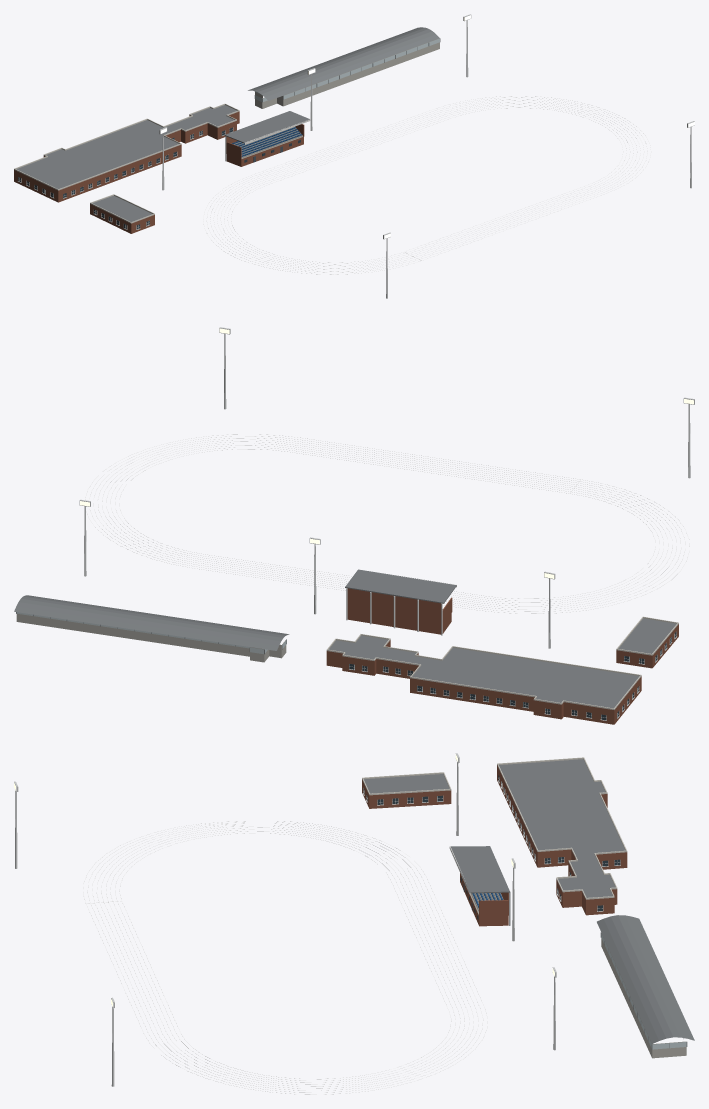
File: linford_christie_stadium.glb
3 renders of one model, top to bottom at view 1: azimuth 30°, elevation 25°; view 2: azimuth 150°, elevation 25°; view 3: azimuth 270°, elevation 25°, orthographic. The views are drawn at different scales.
Size of the model in its own units: 208 by 26.94 by 182.
